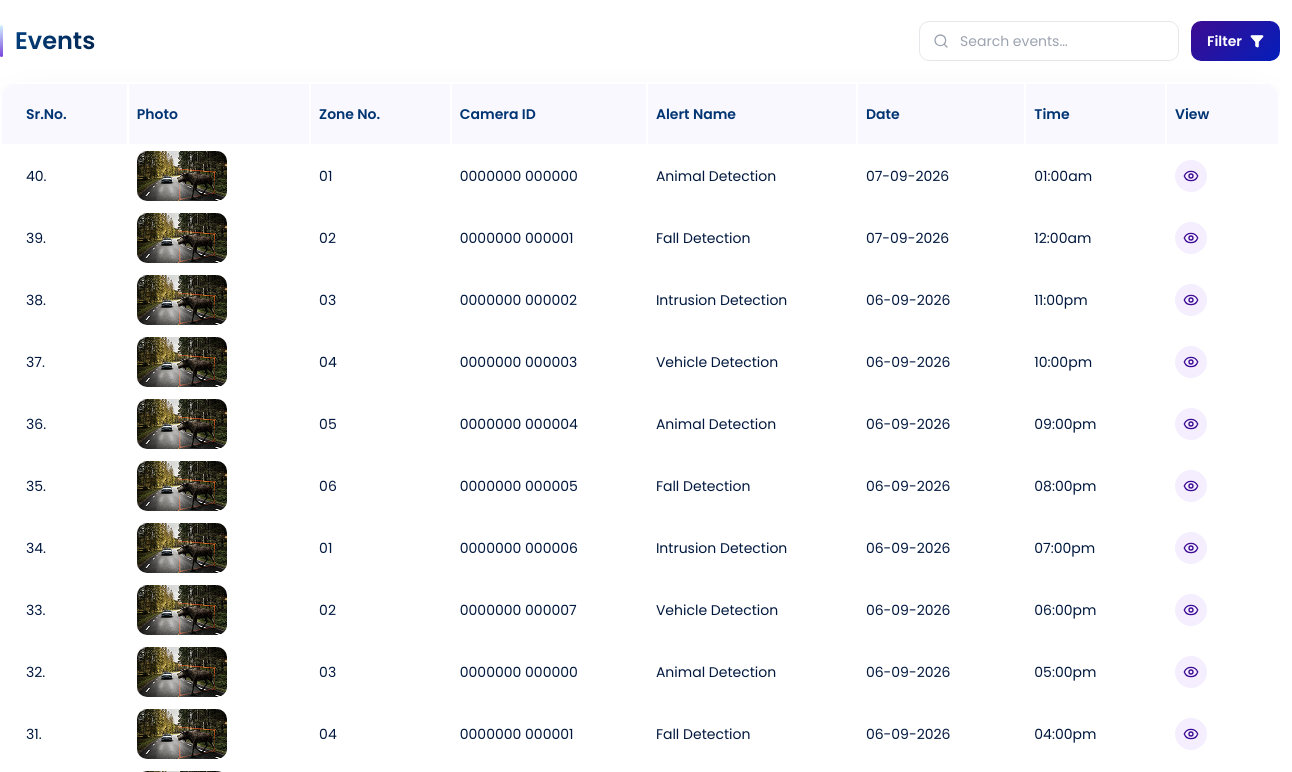
Test case: EventsPage › typing in the search box filters results and updates the URL
The width and height of the screenshot is (1292, 772).
Type "zzz-no-match" into the field labelled "Search events".
click(1049, 41); type("zzz-no-match")  # box 919,21 -> 1179,61
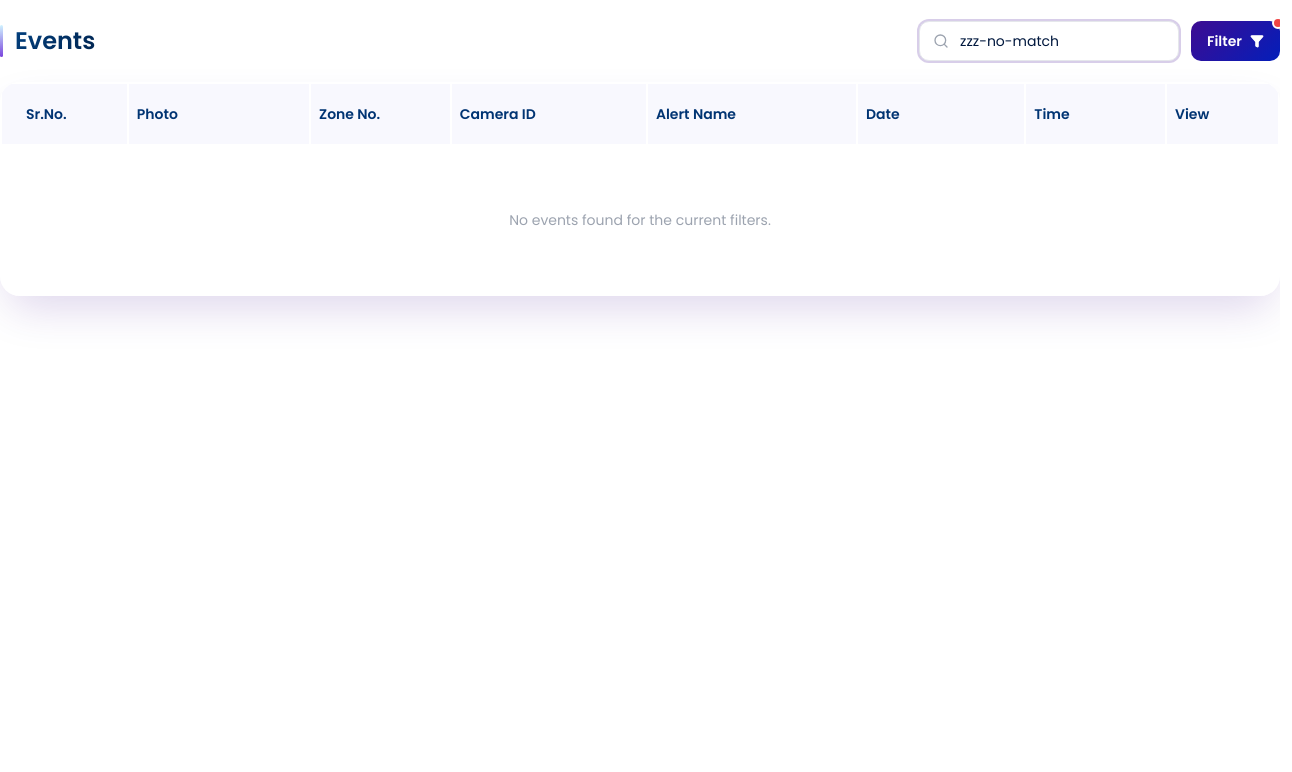
Now the text "No events found for the current filters." is shown, box 2,146 -> 1278,294
